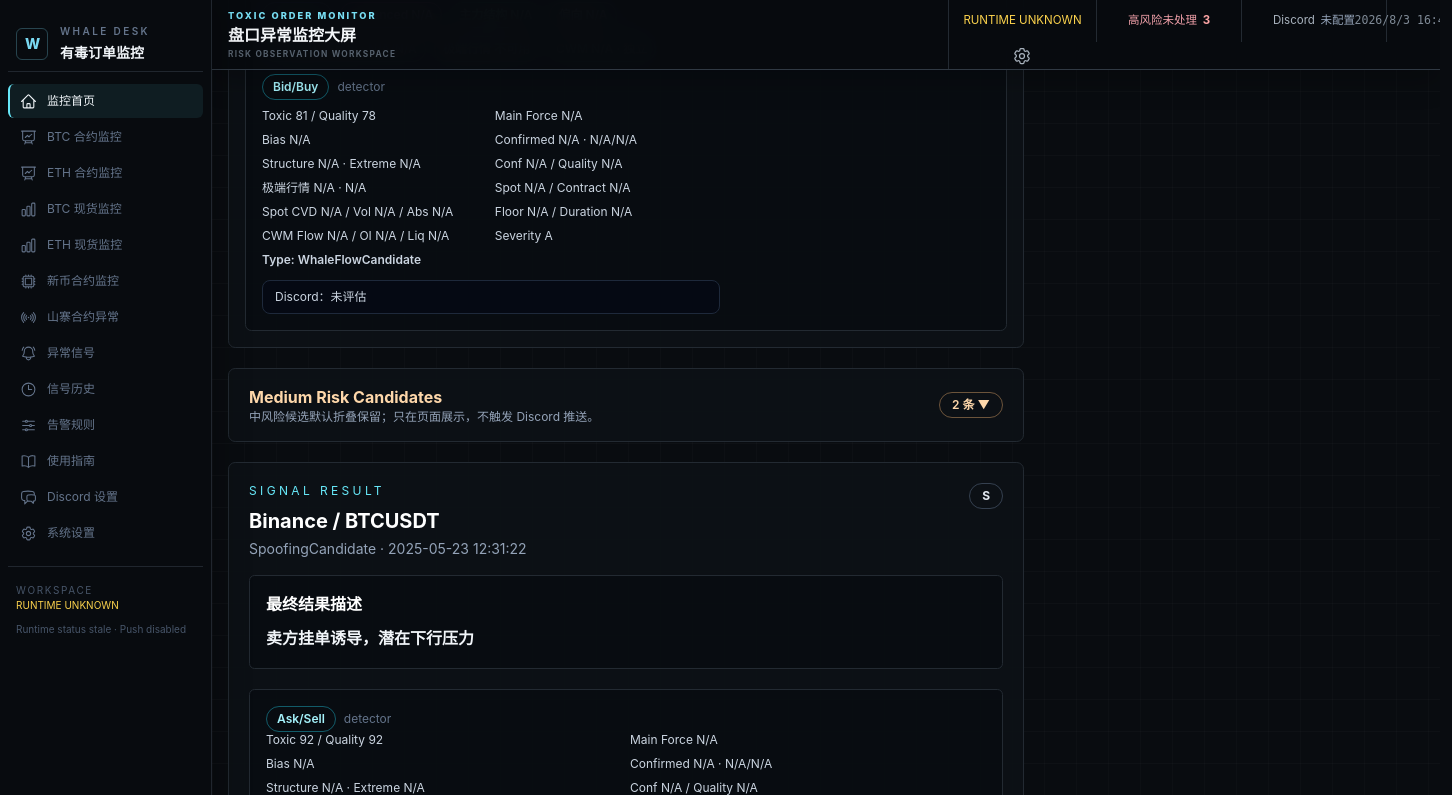
Test: Dashboard interactions › expands and hides medium-risk candidates from the foldable section
(page scrolled)
Click the button "Medium Risk Candidates".
click(346, 397)  # box [229, 369, 1023, 441]
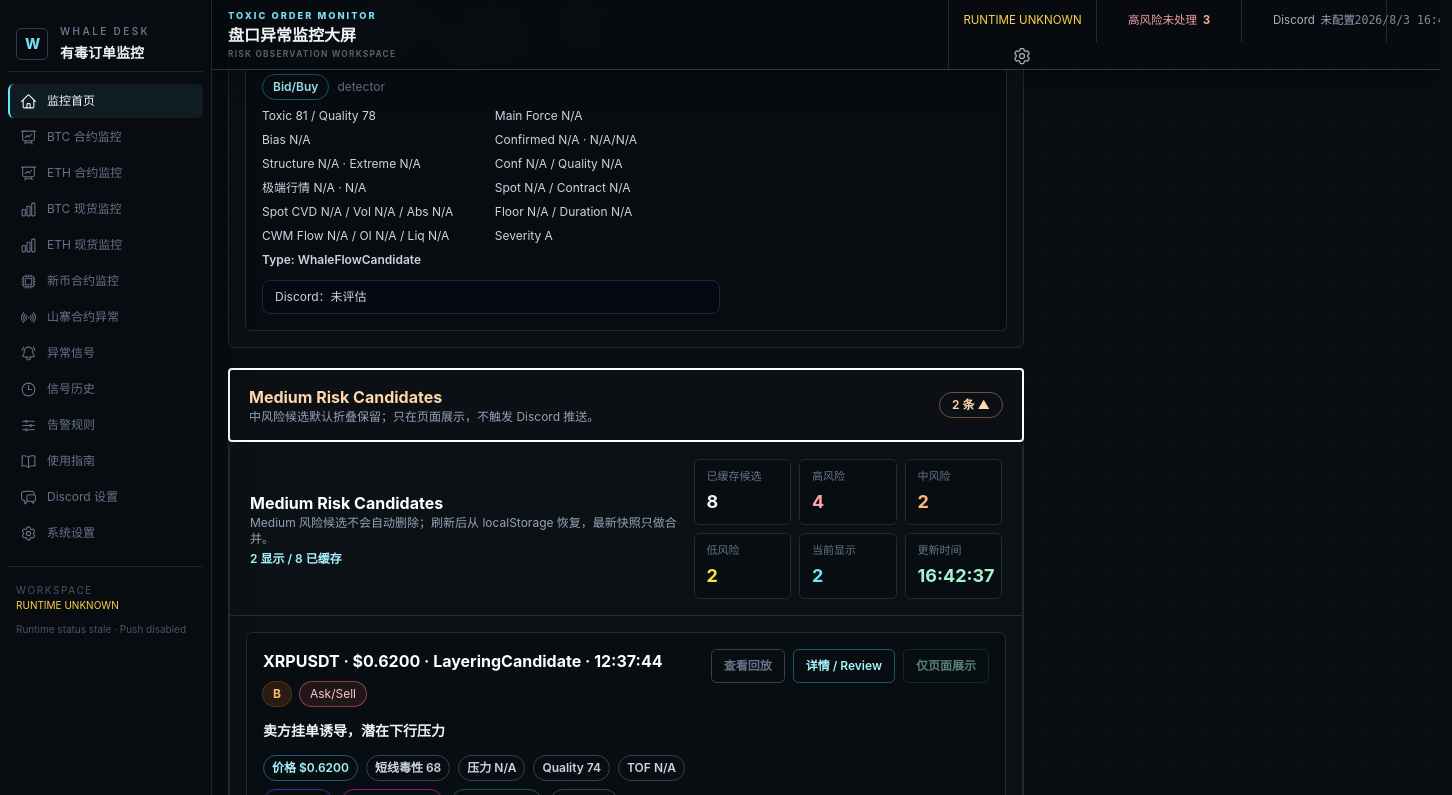
Now the button "Medium Risk Candidates" is expanded
Click the button "Medium Risk Candidates".
click(346, 397)  # box [229, 369, 1023, 441]
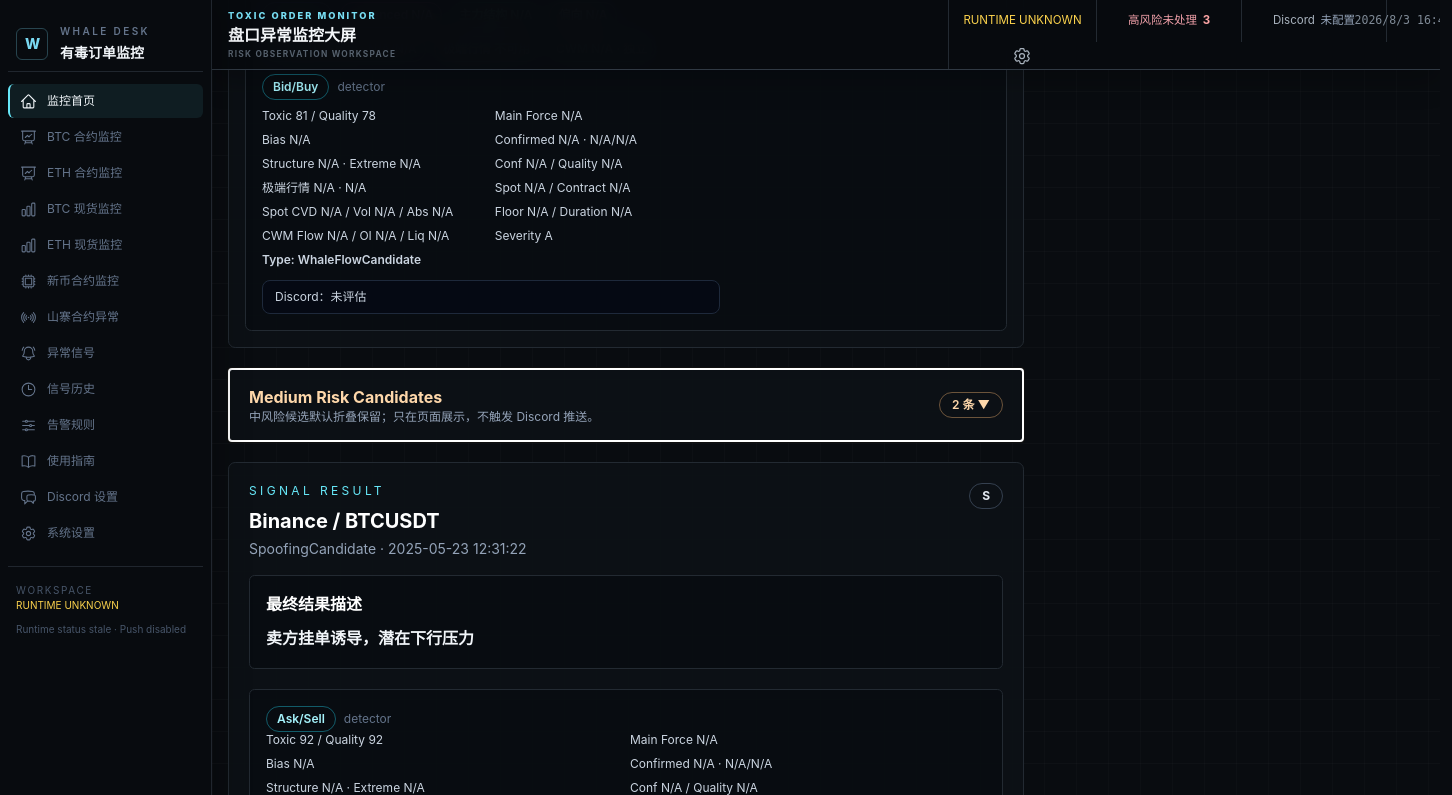
Now the button "Medium Risk Candidates" is collapsed, box [229, 369, 1023, 441]
